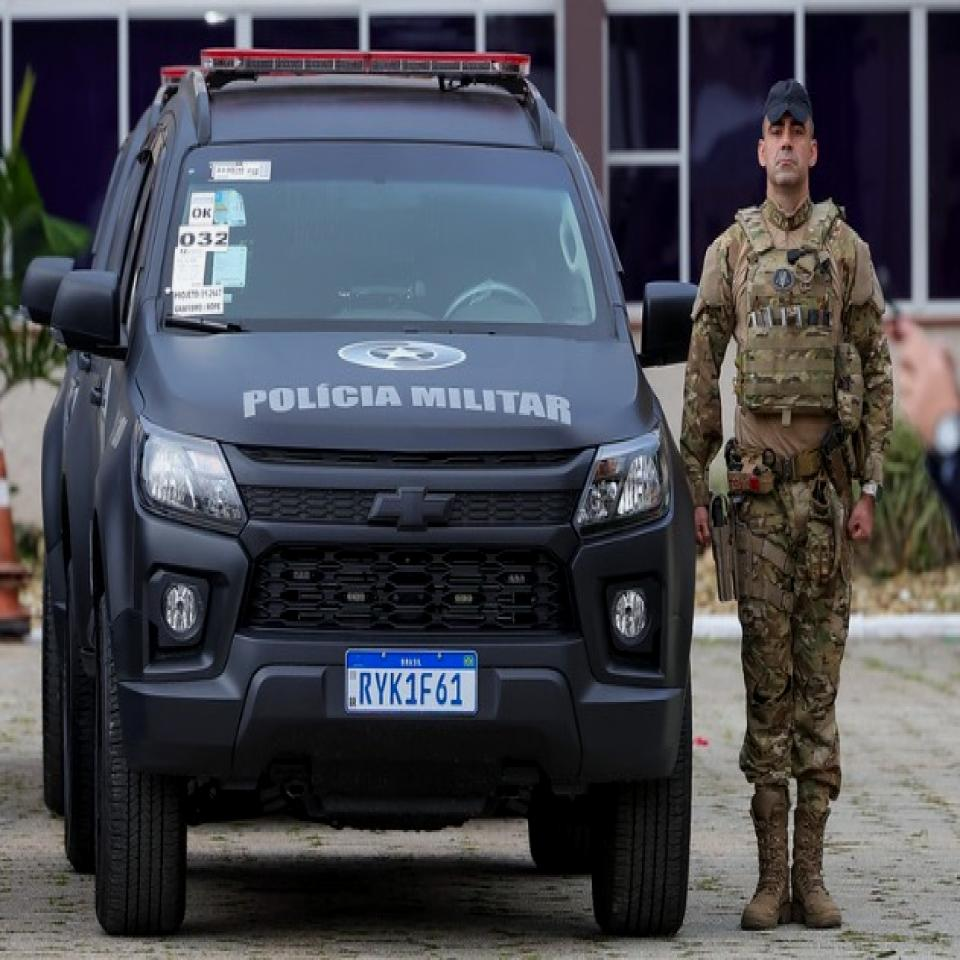viatura: (53, 48, 695, 938)
